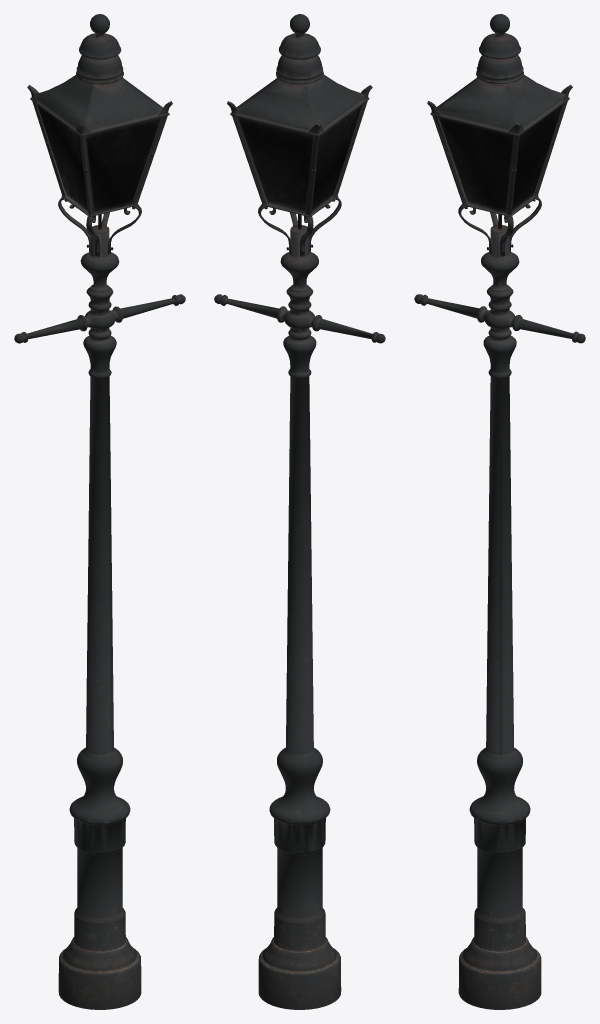
The model's file is street_lamp_01_1k_md.glb.
3 views of the same model, side by side, from view 1: azimuth 30°, elevation 25°; view 2: azimuth 150°, elevation 25°; view 3: azimuth 330°, elevation 25° (orthographic).
Parts seen in each view (by area): view 1: street_lamp_01; view 2: street_lamp_01; view 3: street_lamp_01.
Boxes of the visible parts, x1,y1,x2,y2 form: street_lamp_01: (14,14,185,1009); street_lamp_01: (214,14,385,1009); street_lamp_01: (414,14,585,1009).
Size of the model in its own units: 0.7034 by 3.87 by 0.3863.
2 materials, 2 textured.
